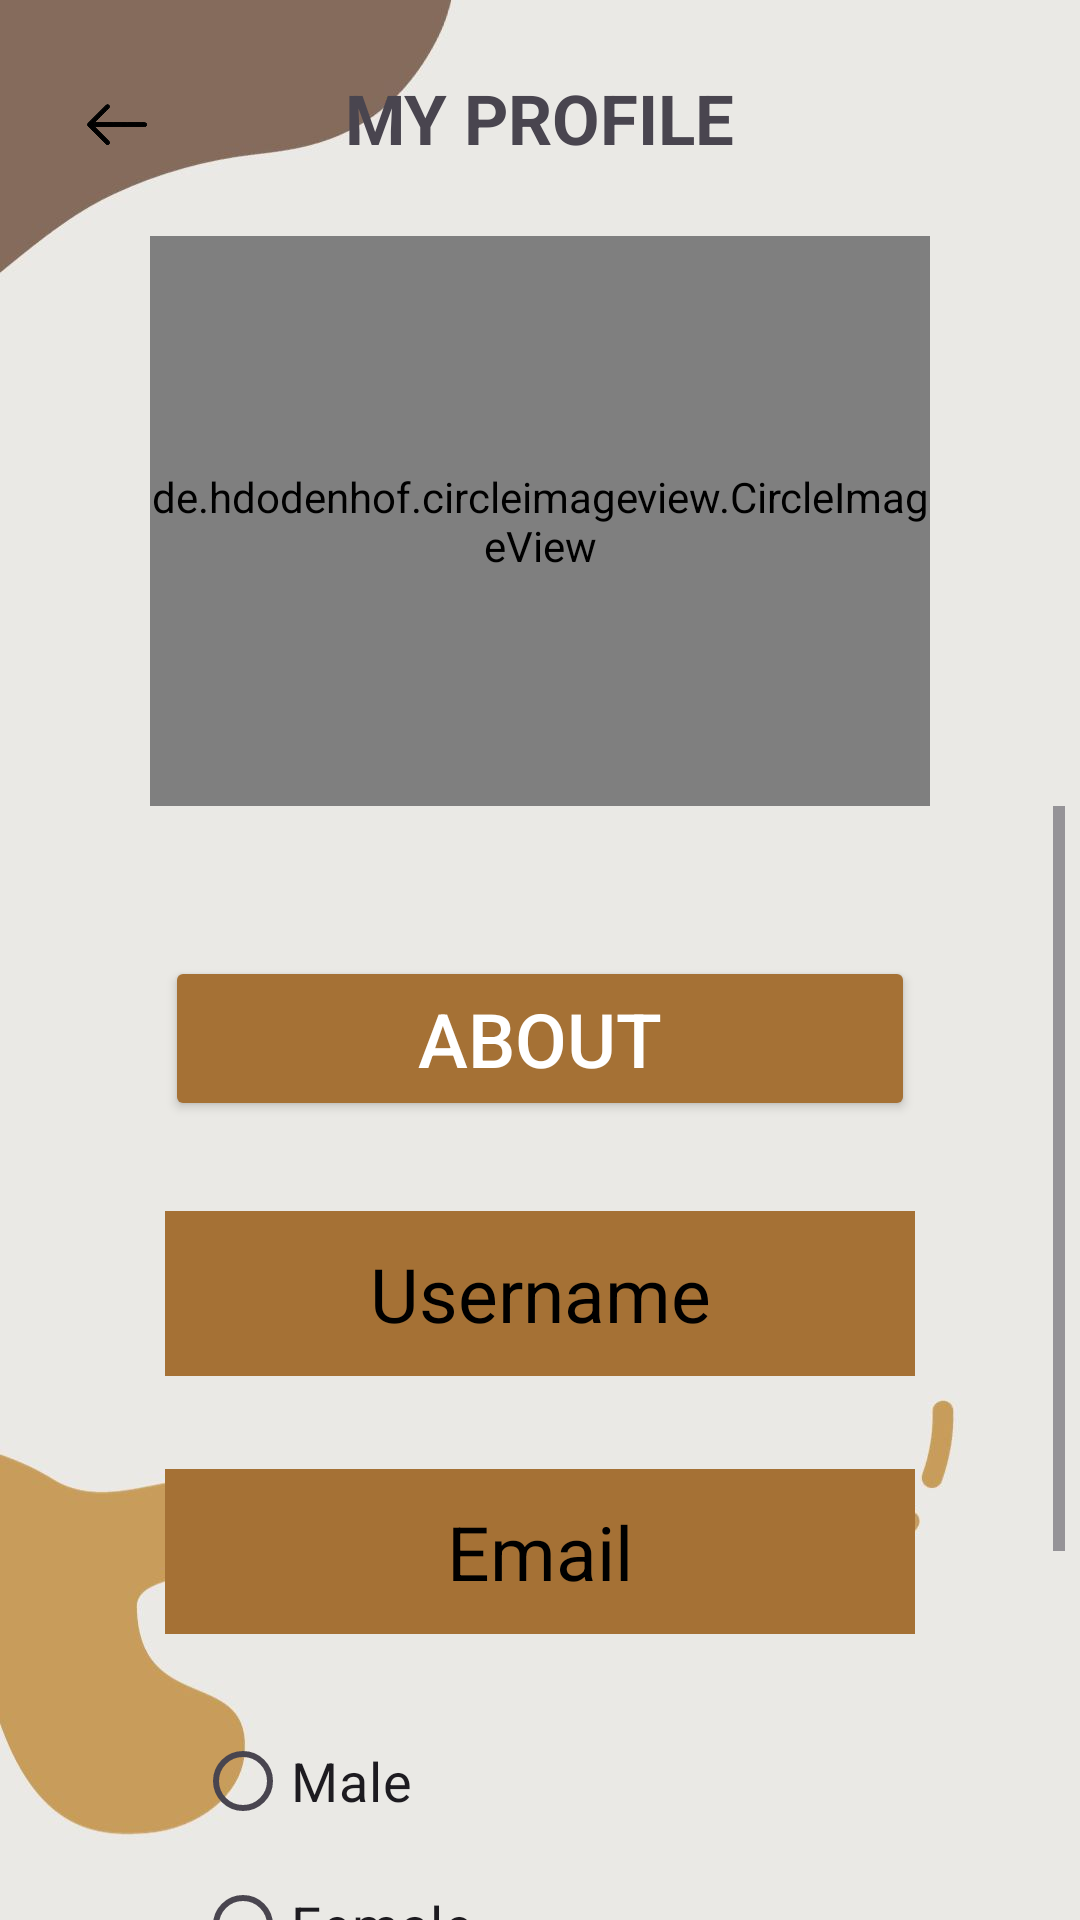

Icons on this 1080*1920 Android screen, each with the point to tap as (x,y):
panah: (117,124)
